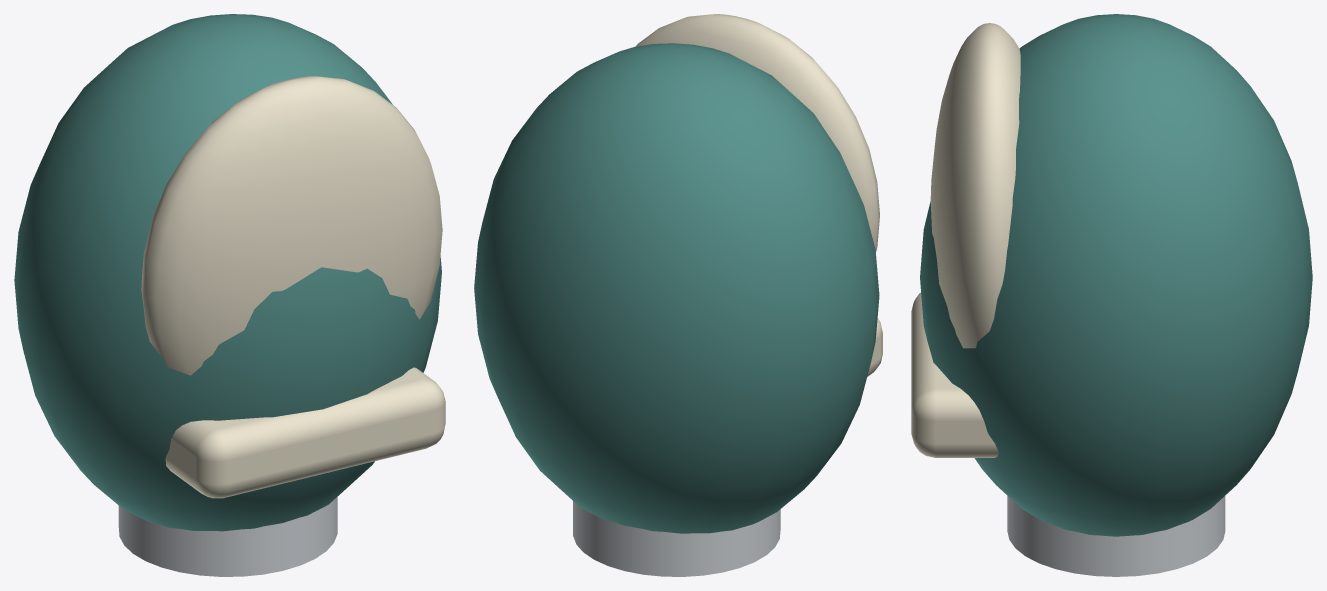
File: cocoon.glb
3 renders of one model, left to right at view 1: azimuth 30°, elevation 25°; view 2: azimuth 150°, elevation 25°; view 3: azimuth 270°, elevation 25°, orthographic. The views are drawn at different scales.
Visible parts, largest first — view 1: cocoon; view 2: cocoon; view 3: cocoon.
Part boxes in pixels (x1,y1,x2,y2): cocoon: (14, 14, 445, 576); cocoon: (474, 14, 882, 576); cocoon: (911, 14, 1312, 576).
Bounding box in the file's own units: 1 × 1.27 × 0.92.
